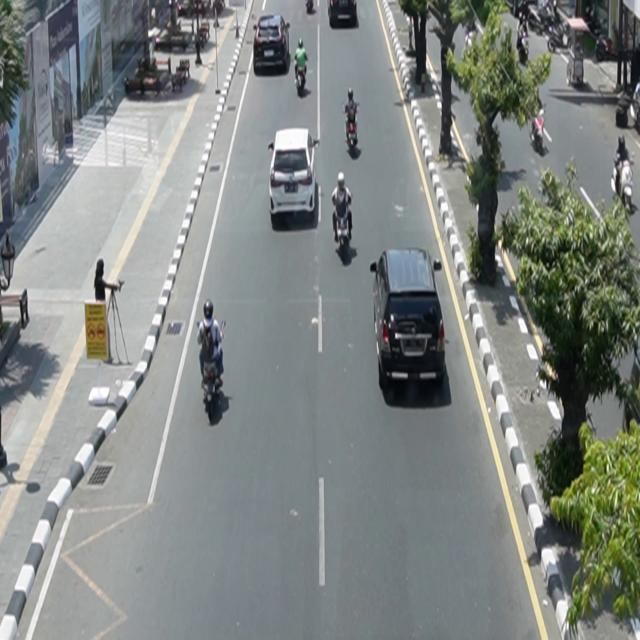car: (370, 248, 447, 391), (269, 128, 321, 219)
